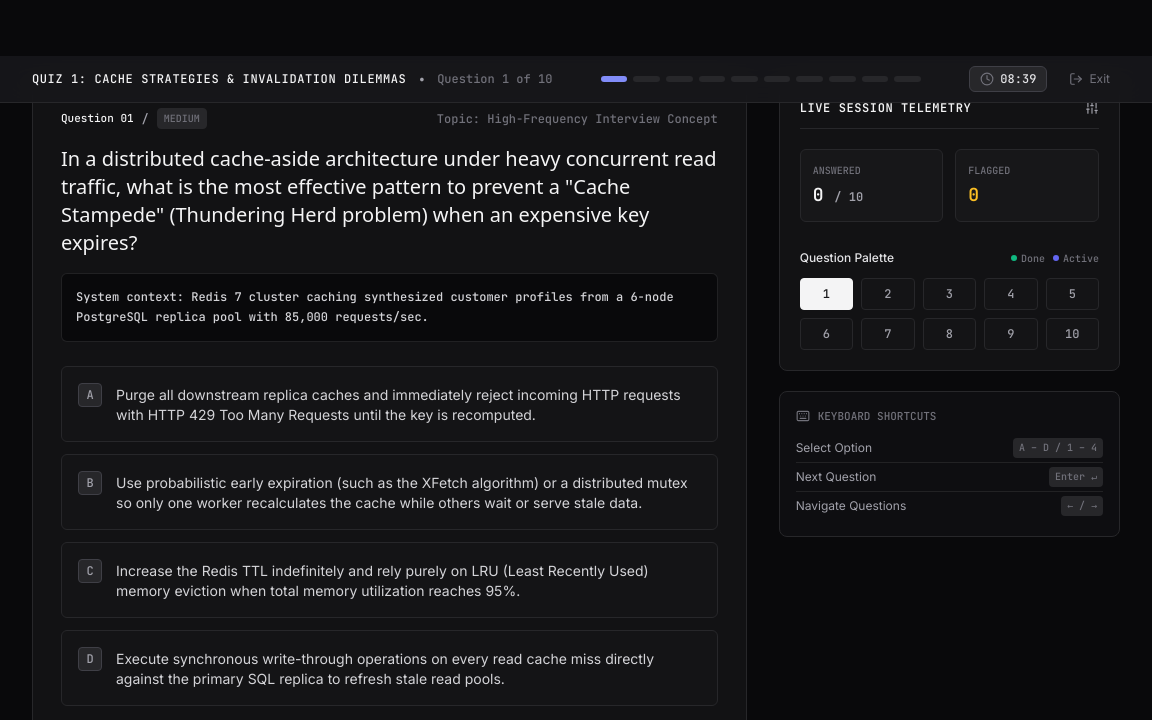
QuizRunner Integration & Keyboard Navigation › opens exit confirmation modal and dismisses on cancel
Click the button "Exit" at point(1090, 79), box [1059,67,1120,91]
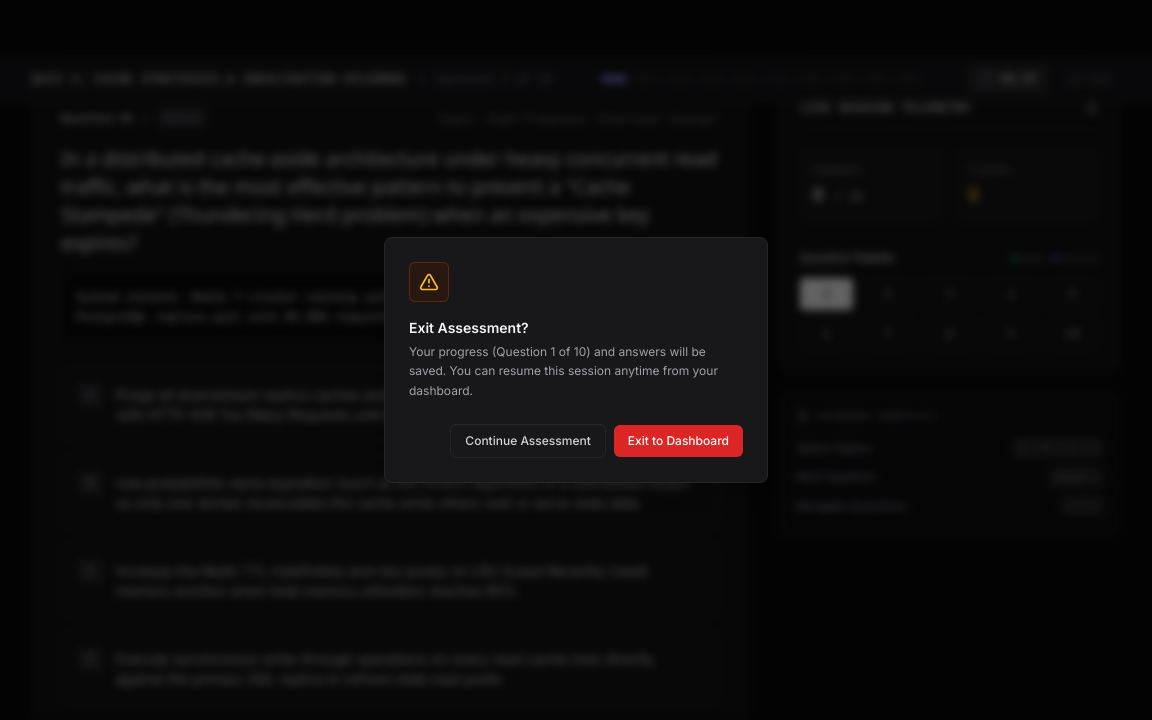
Expected: the heading "Exit Assessment?" is shown, [409,319,529,336]
Expected: the text "answers will be saved" is shown, [409,344,718,398]
Click the button "Continue Assessment" at point(528, 441), box [450,424,606,458]
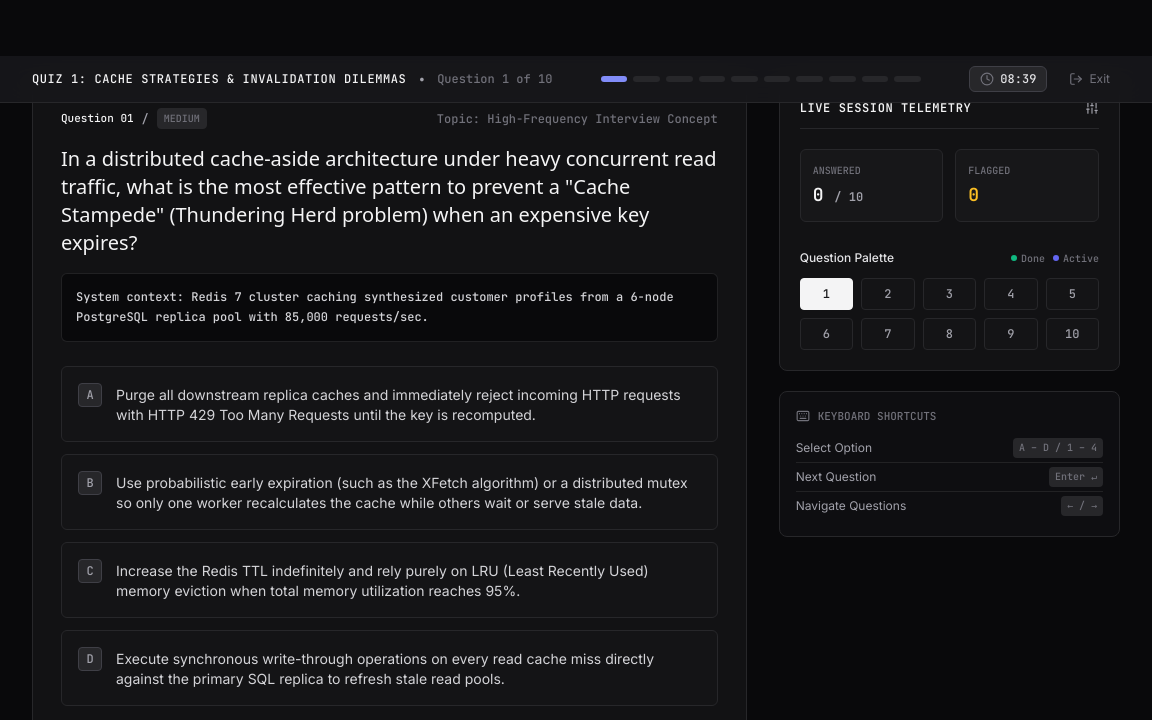
Expected: the heading "Exit Assessment?" is gone
